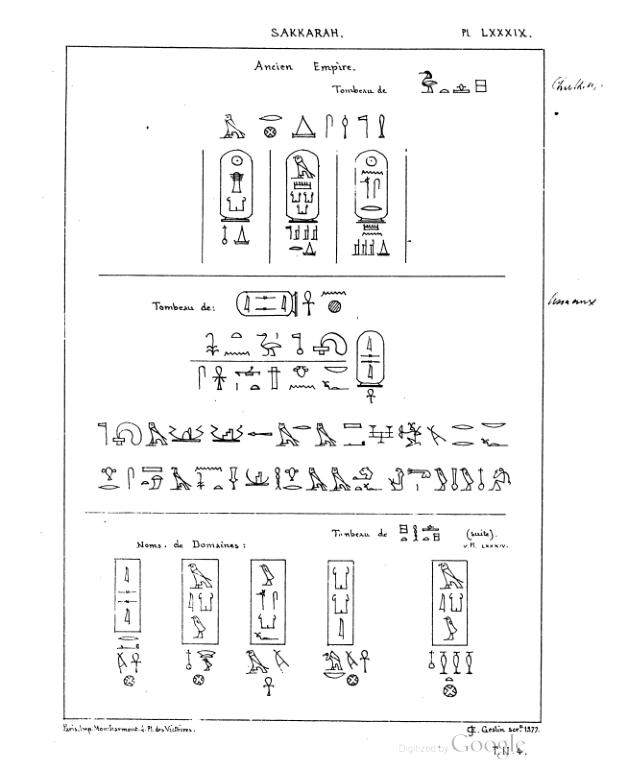circle: (347, 148, 391, 228), (282, 147, 322, 225), (216, 148, 255, 224), (230, 285, 300, 320), (352, 324, 386, 390)
